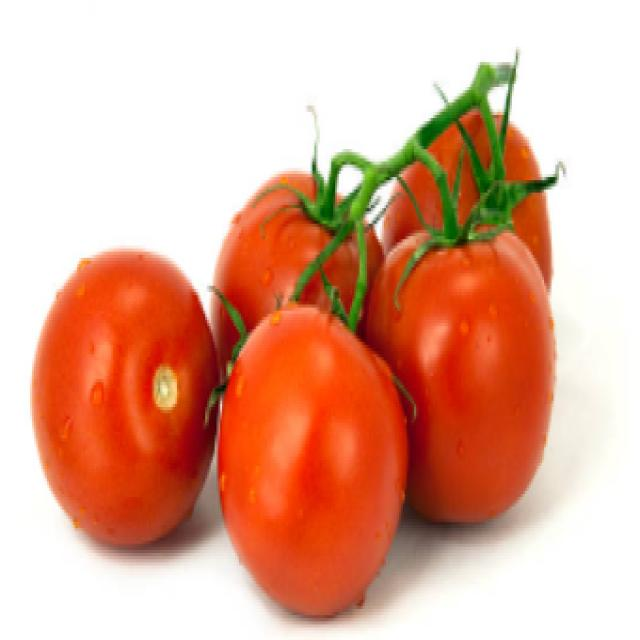Tomato: (202, 280, 415, 630), (43, 212, 247, 574), (364, 215, 582, 530)
